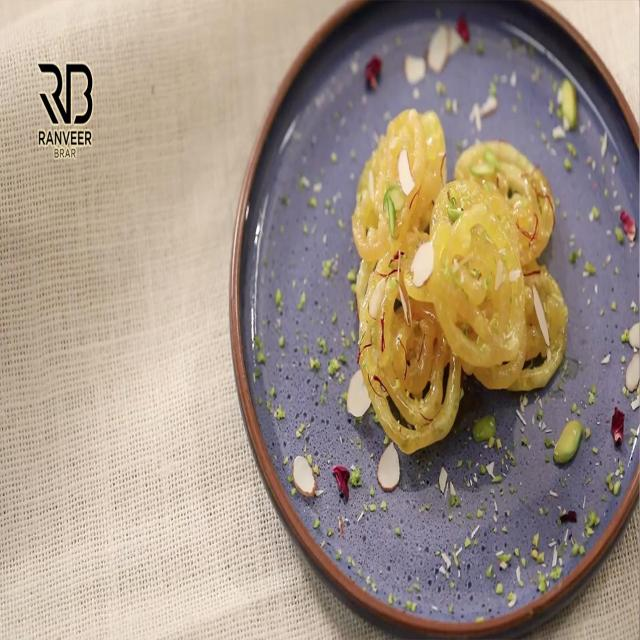jalebi: (353, 108, 550, 464)
